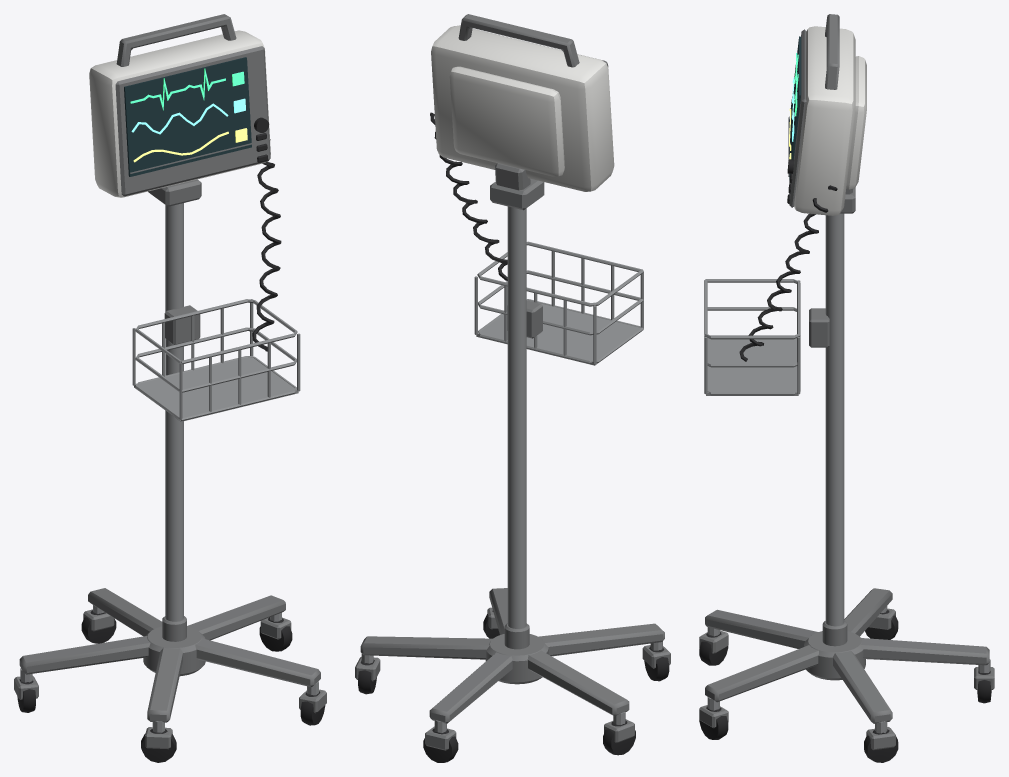
The model's file is HospitalMonitor.fbx.
3 views of the same model, side by side, from view 1: azimuth 30°, elevation 25°; view 2: azimuth 150°, elevation 25°; view 3: azimuth 270°, elevation 25° (orthographic). The views are drawn at different scales.
Visible parts, largest first — view 1: HospitalMonitor_Mesh; view 2: HospitalMonitor_Mesh; view 3: HospitalMonitor_Mesh.
Boxes of the visible parts, x1,y1,x2,y2 form: HospitalMonitor_Mesh: [14, 14, 326, 762]; HospitalMonitor_Mesh: [355, 14, 670, 762]; HospitalMonitor_Mesh: [699, 14, 994, 762].
Bounding box in the file's own units: 0.6026 × 1.42 × 0.5731.
